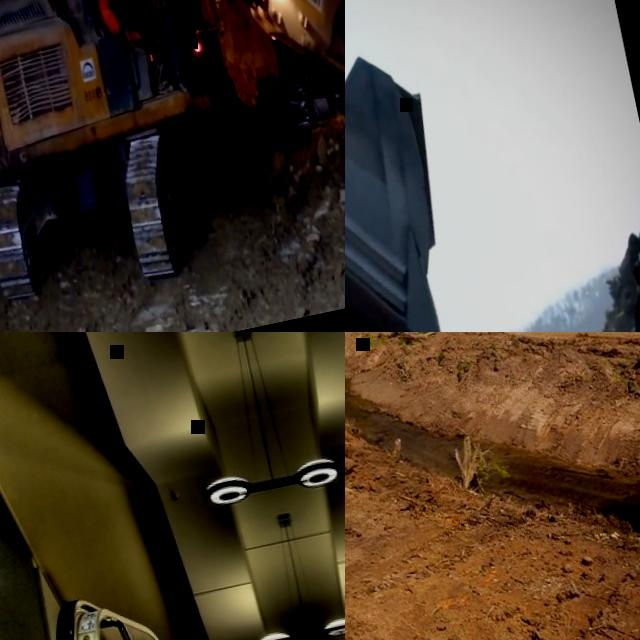Person: (89, 0, 155, 89)
Safety Vest: (94, 0, 120, 36)
machinery: (0, 0, 345, 329), (345, 16, 527, 332)
